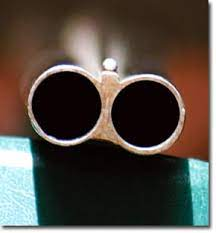weapon: (29, 61, 186, 165)
